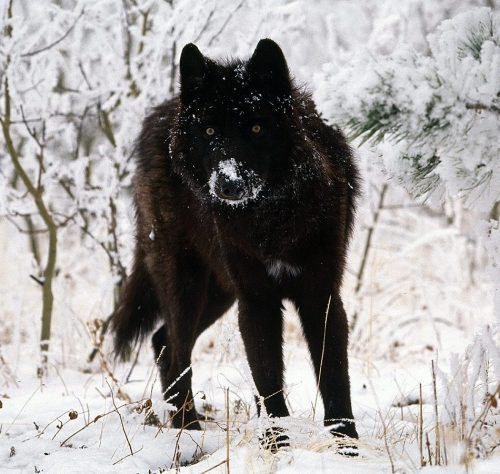Lobo: (114, 38, 366, 452)
